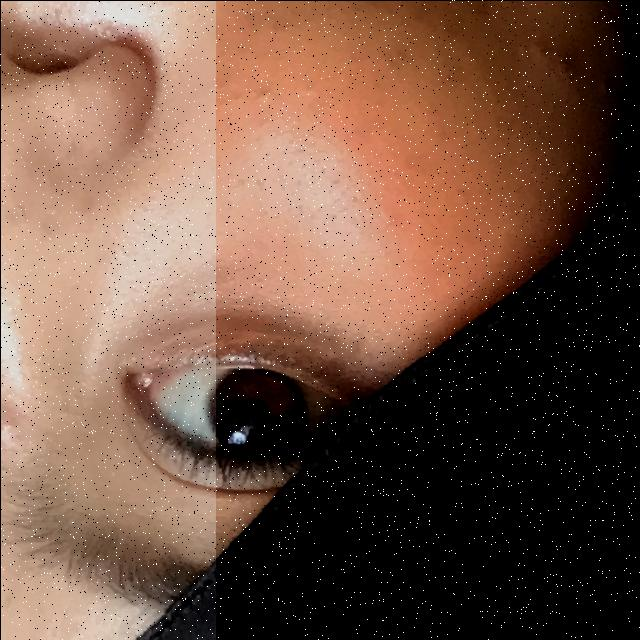mendengar: (215, 0, 640, 640)
